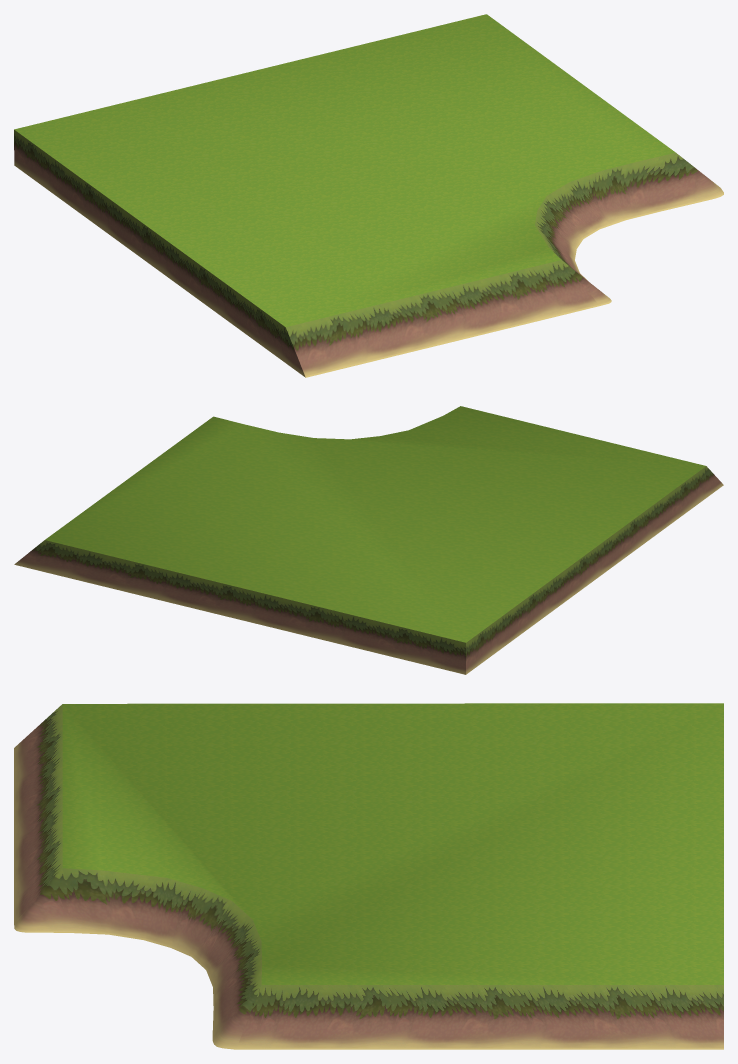
The model's file is Terrain1Single.fbx.
3 views of the same model, one above another, from view 1: azimuth 30°, elevation 25°; view 2: azimuth 150°, elevation 25°; view 3: azimuth 270°, elevation 25° (orthographic). The views are drawn at different scales.
Visible parts, largest first — view 1: Line003; view 2: Line003; view 3: Line003.
Boxes of the visible parts, box(x1,y1,x2,y2) form: Line003: box(14, 14, 723, 377); Line003: box(14, 406, 723, 674); Line003: box(14, 703, 723, 1049).
Size of the model in its own units: 1.5 by 0.1016 by 1.48.
2 materials, 2 textured.
